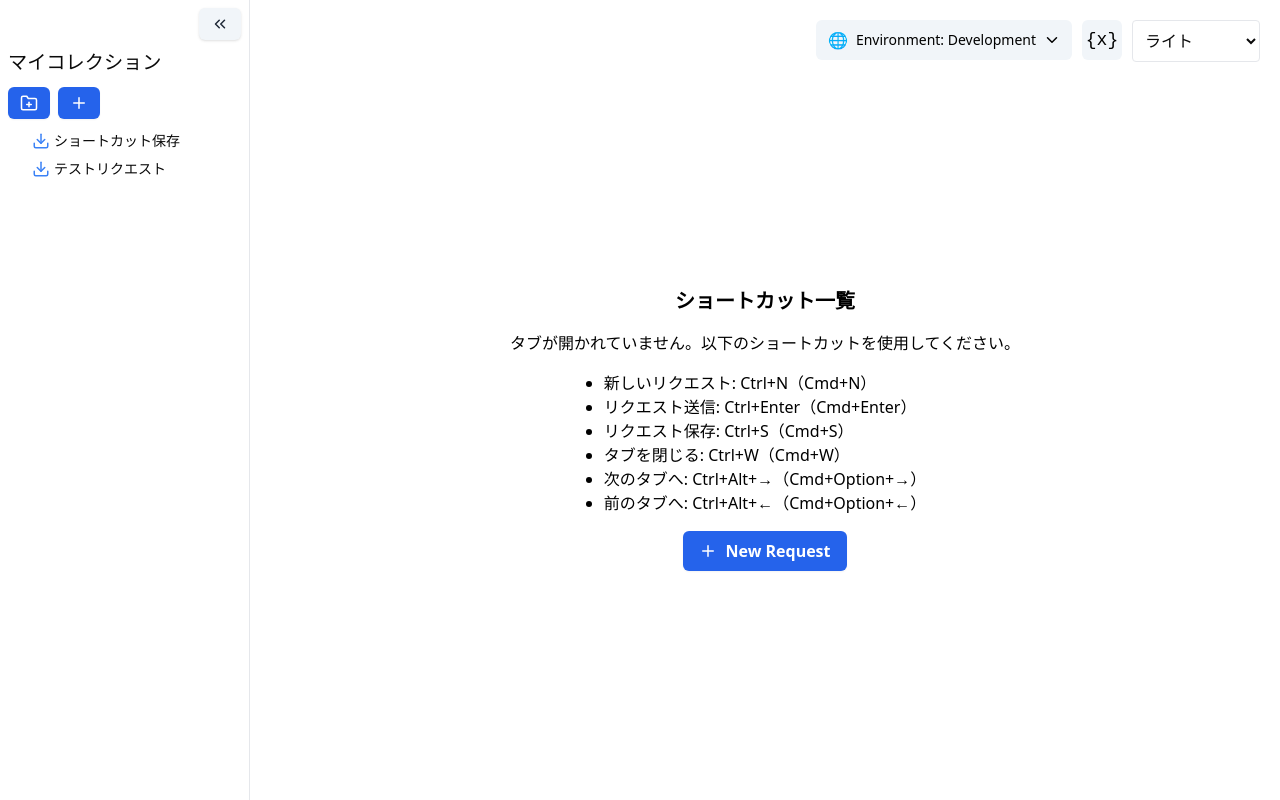
Test: App integration › SendボタンでAPIレスポンスが表示される
The width and height of the screenshot is (1280, 800).
Click the button named "新しいリクエスト" at (79, 103), box [58,87,100,119]
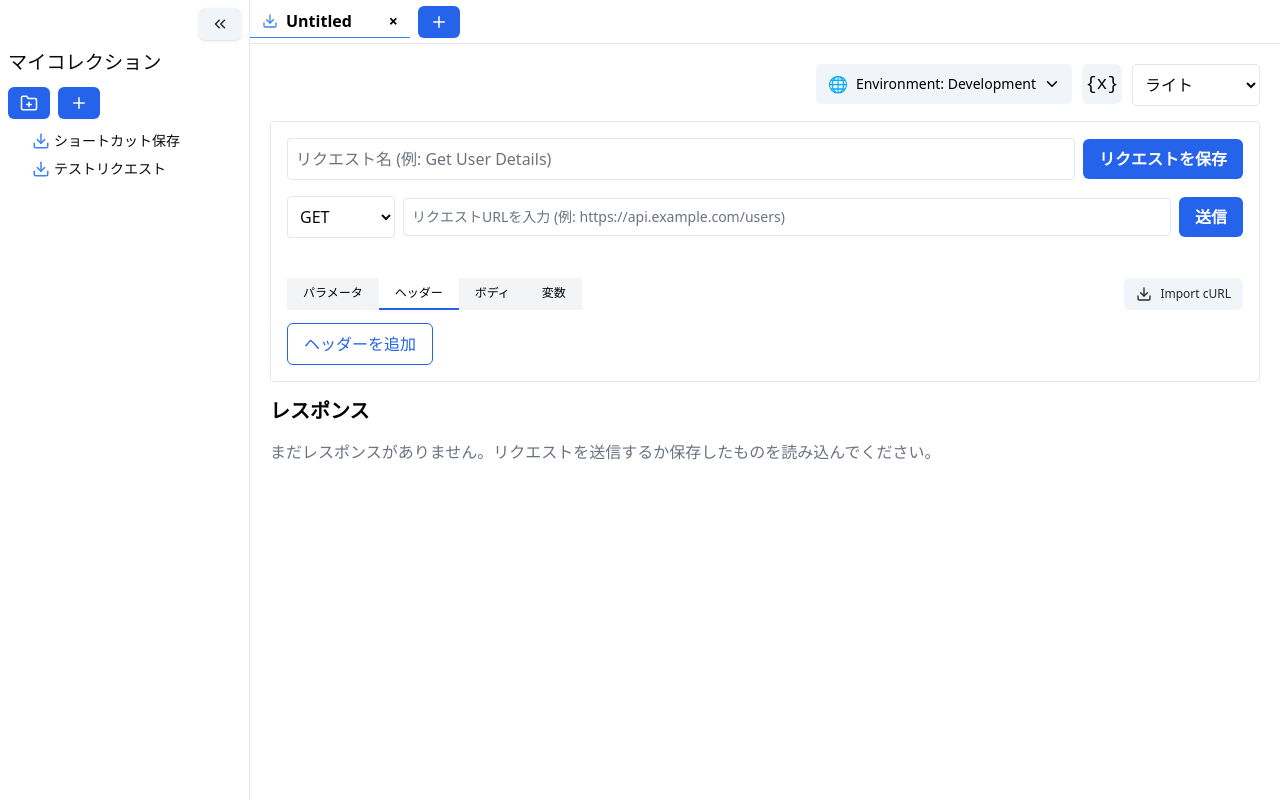
Type "https://api.example.com" into the field with placeholder "リクエストURLを入力 (例: https://api.example.com/users)" at (787, 217), box [403,198,1171,236]
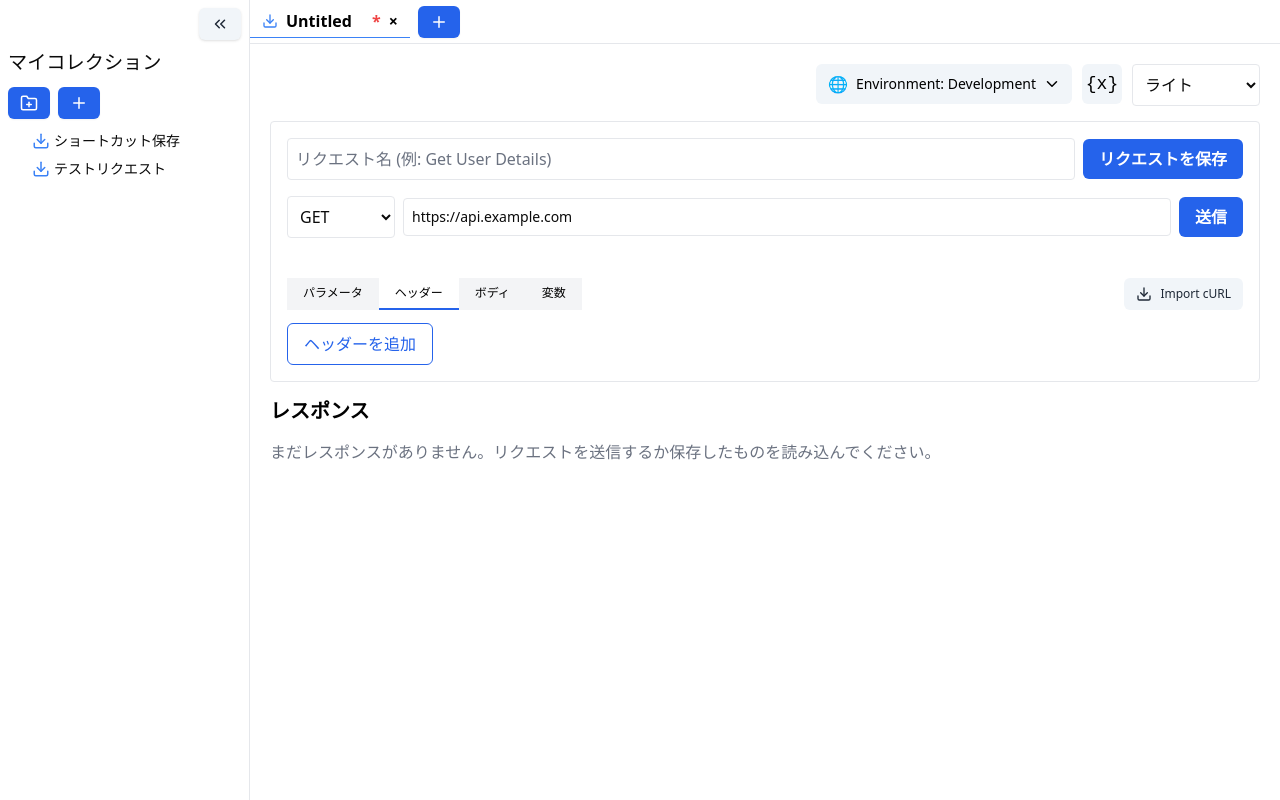
Click the button "送信" at (1211, 217), box [1179,197,1243,237]
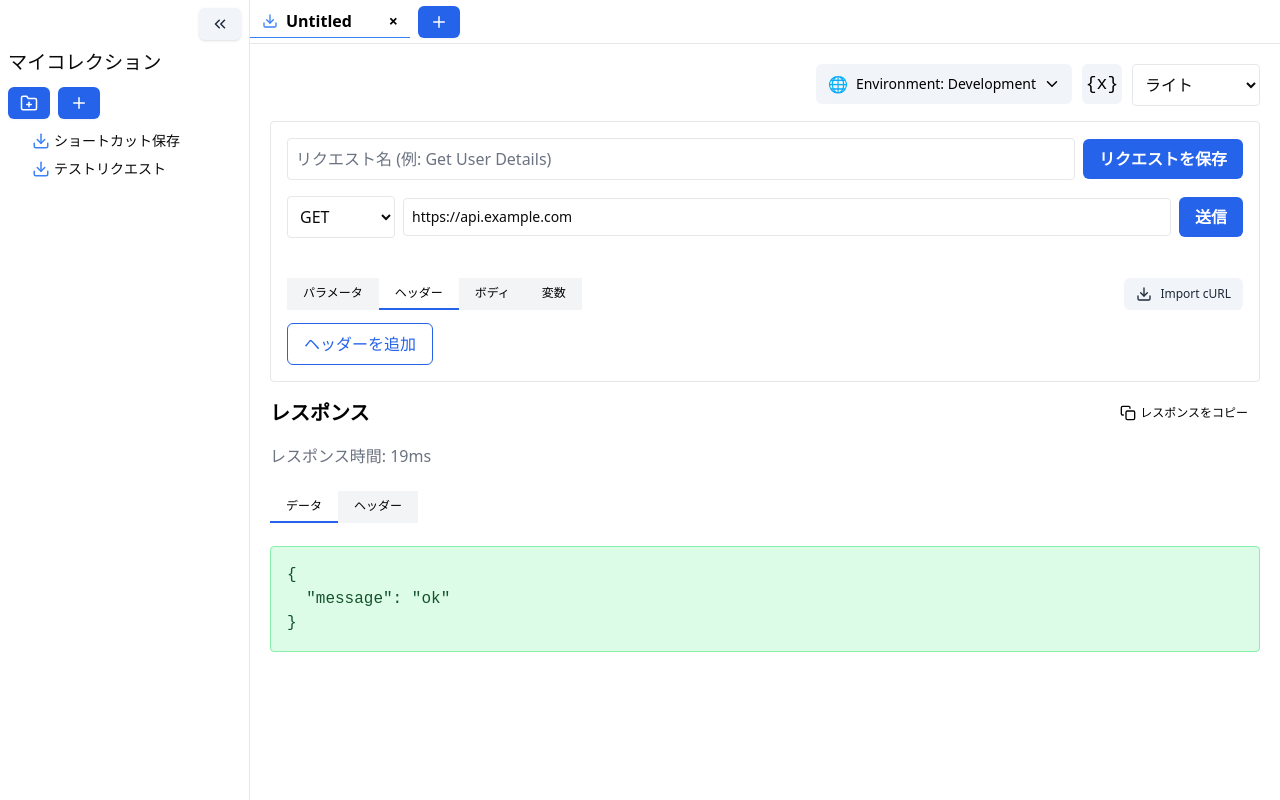
Now the text "{ \"message\": \"ok\" }" is shown, box [270,546,1260,652]
